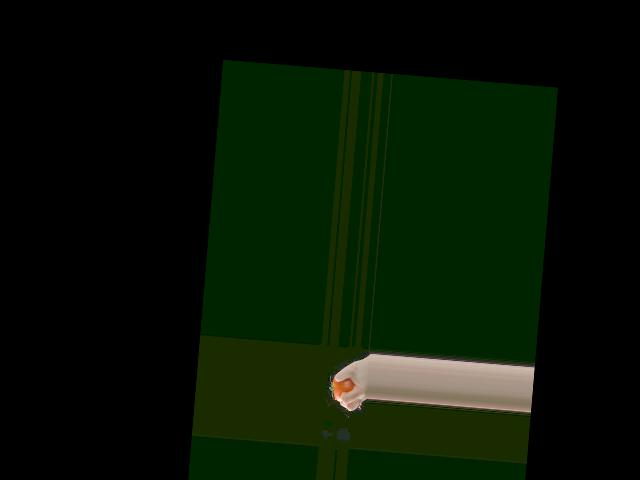tomato: (331, 376, 354, 402)
